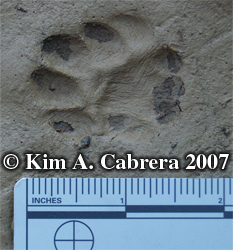cat: (28, 12, 188, 149)
